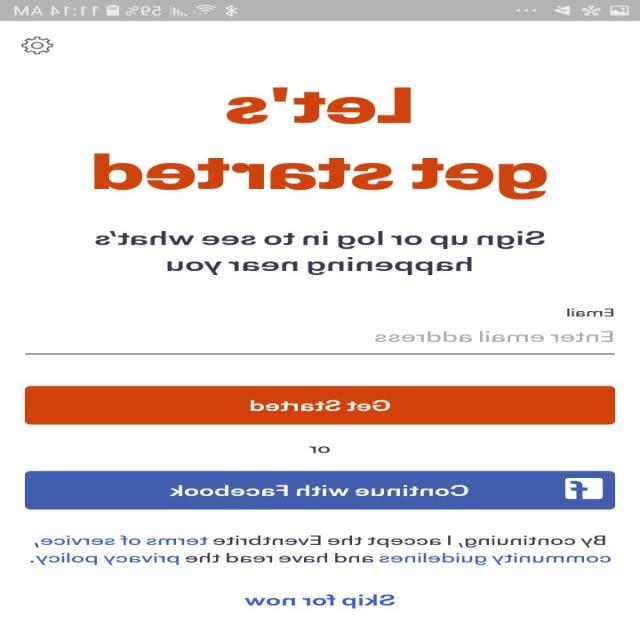EditText: (25, 330, 615, 354)
Icon: (22, 36, 54, 55)
Text: (94, 154, 548, 200), (95, 230, 546, 275), (30, 535, 611, 565), (226, 87, 412, 124), (375, 331, 613, 342), (244, 594, 396, 608), (567, 308, 614, 316), (309, 446, 331, 454)
TextButton: (25, 470, 615, 510), (26, 385, 616, 425)
